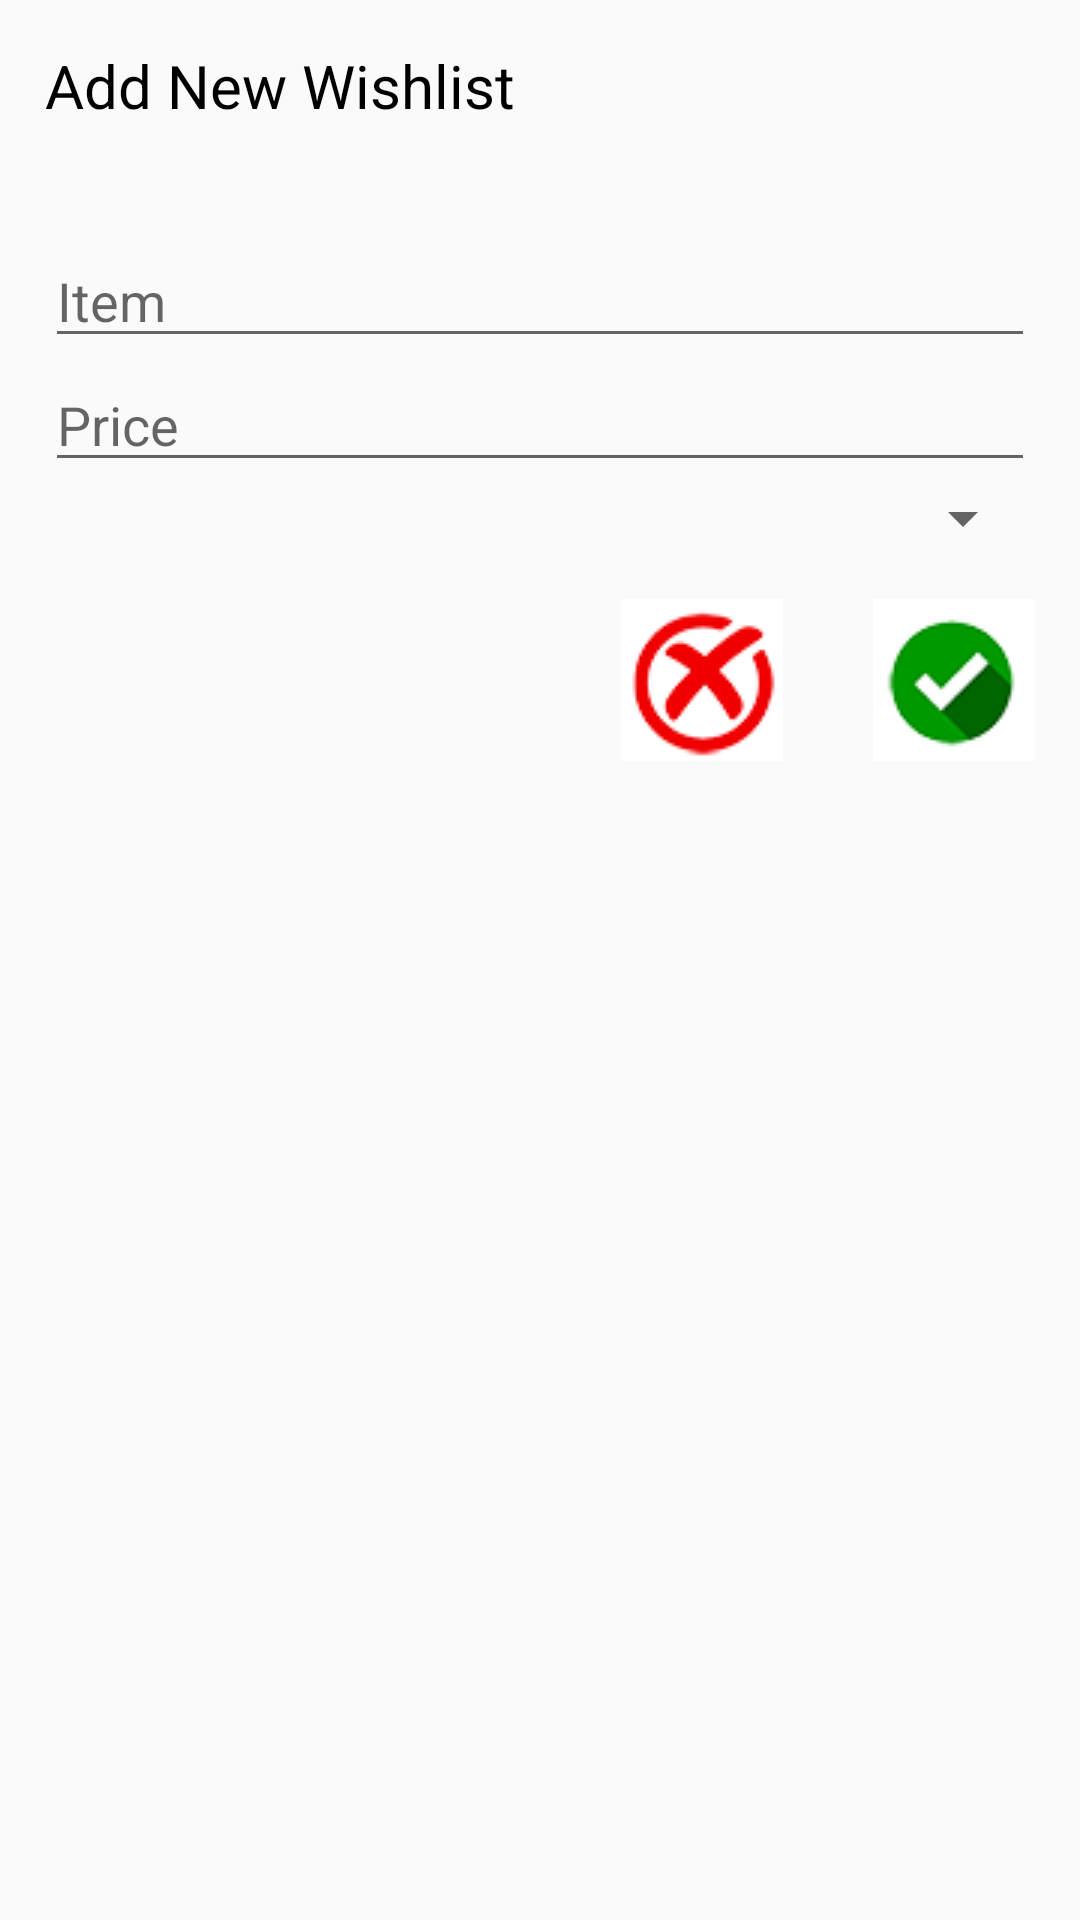

Named icons in this screenshot (1080w x 1920h) and their centers, (x,y):
cross: (703,684)
tick: (951,683)
